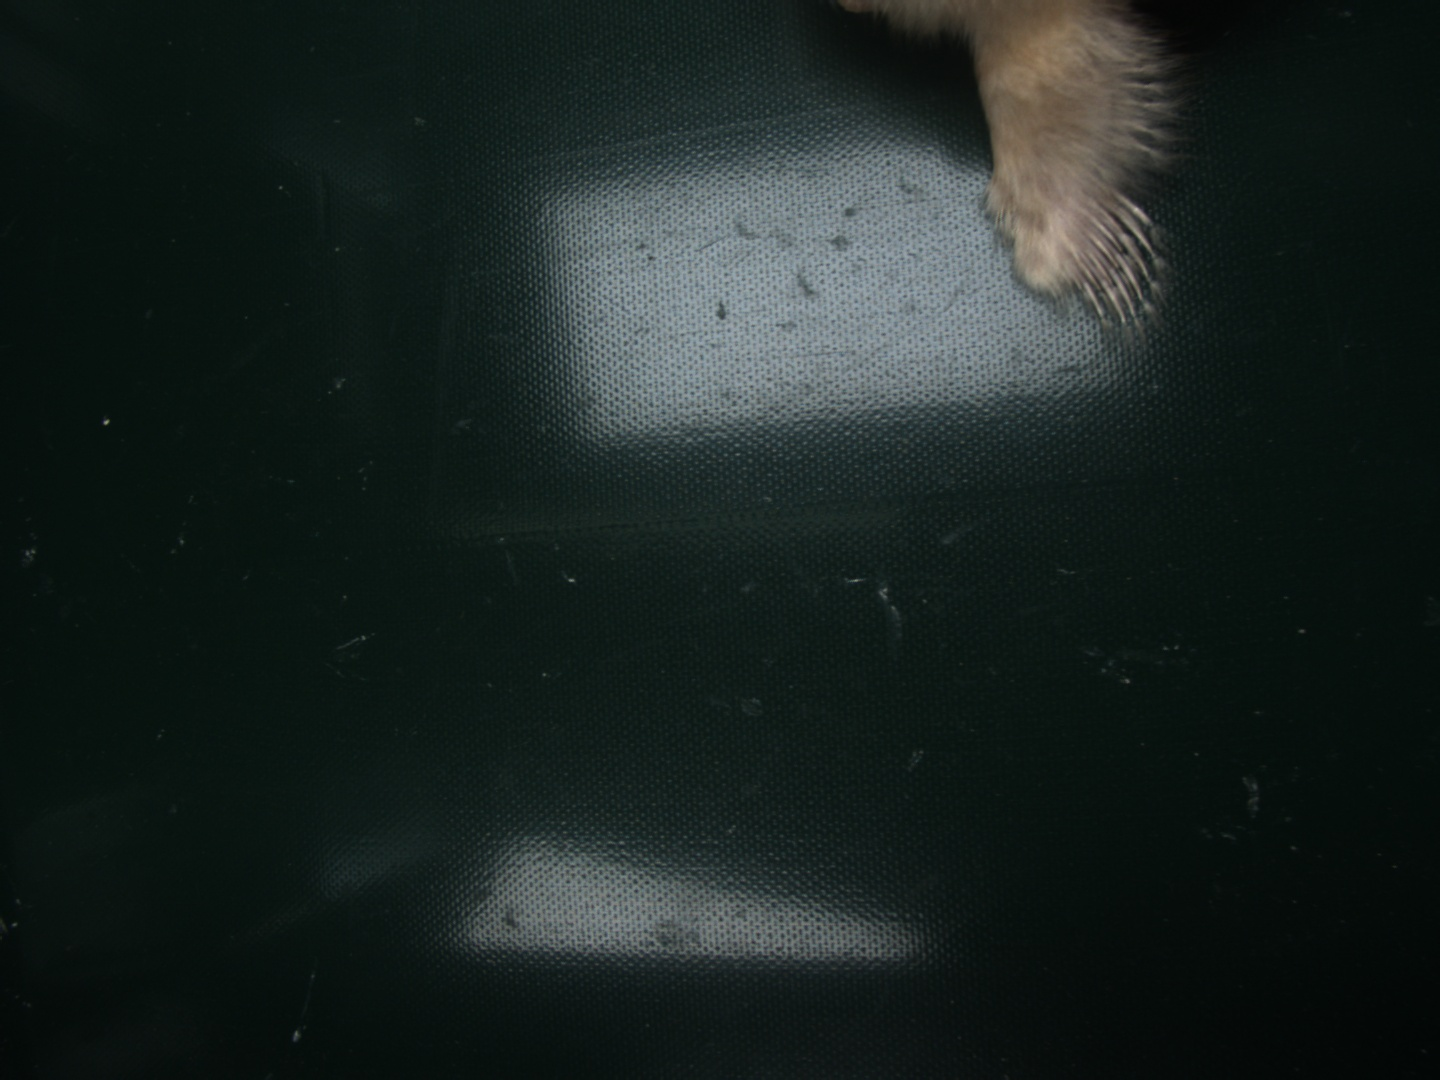female: (1071, 192, 1157, 323)
